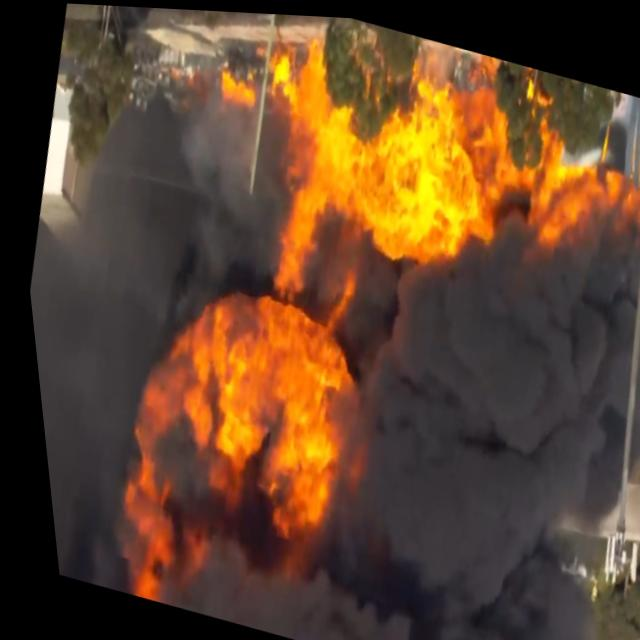Fire: (174, 7, 640, 303), (80, 262, 392, 640), (239, 193, 342, 301), (620, 555, 640, 617)
